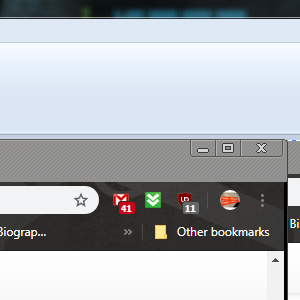close: (240, 139, 282, 157)
